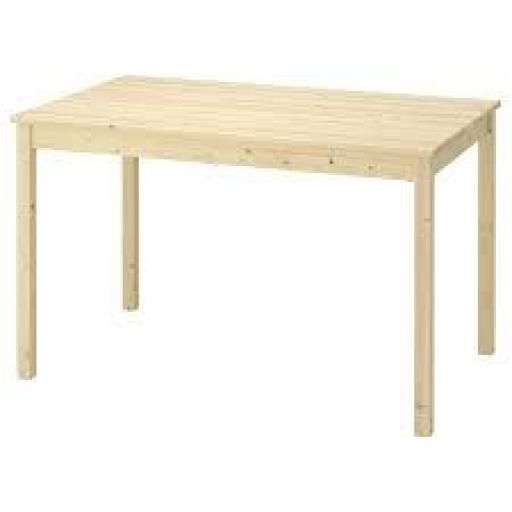table: (14, 74, 500, 420)
